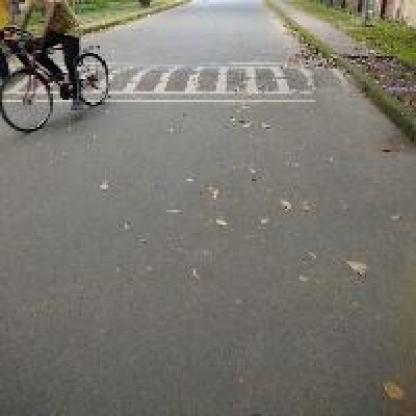Speed Bump: (114, 56, 362, 104)
